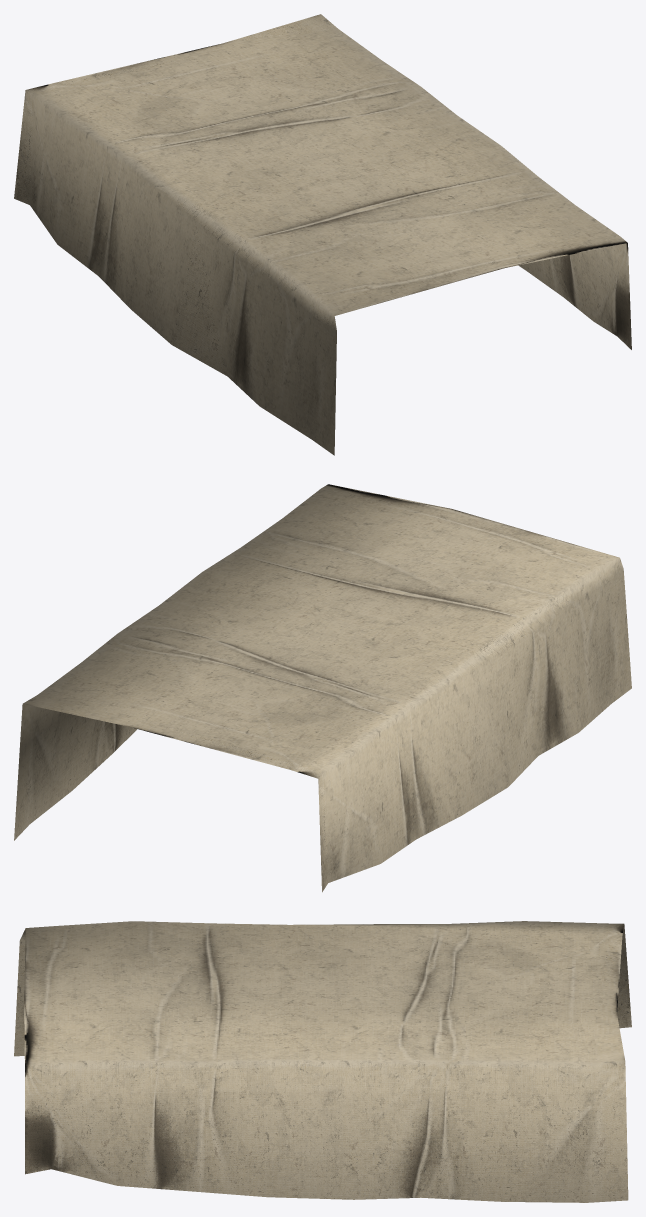
File: bedsheet.fbx
3 renders of one model, top to bottom at view 1: azimuth 30°, elevation 25°; view 2: azimuth 150°, elevation 25°; view 3: azimuth 270°, elevation 25°, orthographic. The views are drawn at different scales.
Parts seen in each view (by area): view 1: bedsheet; view 2: bedsheet; view 3: bedsheet.
Boxes of the visible parts, bbox=[...] form: bedsheet: bbox=[14, 14, 631, 455]; bedsheet: bbox=[14, 484, 631, 892]; bedsheet: bbox=[14, 921, 631, 1202].
Bounding box in the file's own units: 311 × 124 × 500.
Materials: 1 (1 with a texture image).
